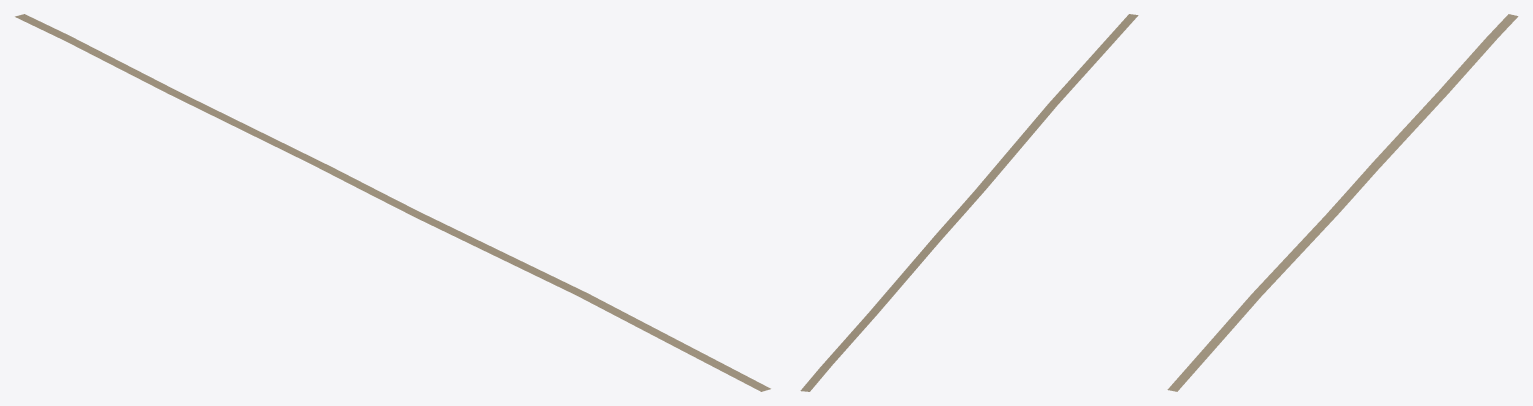
File: farm_2_-1_track.glb
The picture shows the model from 3 angles, left to right: view 1: azimuth 30°, elevation 25°; view 2: azimuth 150°, elevation 25°; view 3: azimuth 330°, elevation 25°; orthographic projection. The views are drawn at different scales.
Visible parts, largest first — view 1: geometry_0; view 2: geometry_0; view 3: geometry_0.
Part boxes in pixels (x1=…): geometry_0: x1=15, y1=14, x2=770, y2=391; geometry_0: x1=800, y1=14, x2=1138, y2=391; geometry_0: x1=1167, y1=14, x2=1518, y2=391.
Size of the model in its own units: 51.56 by 3.12 by 293.
